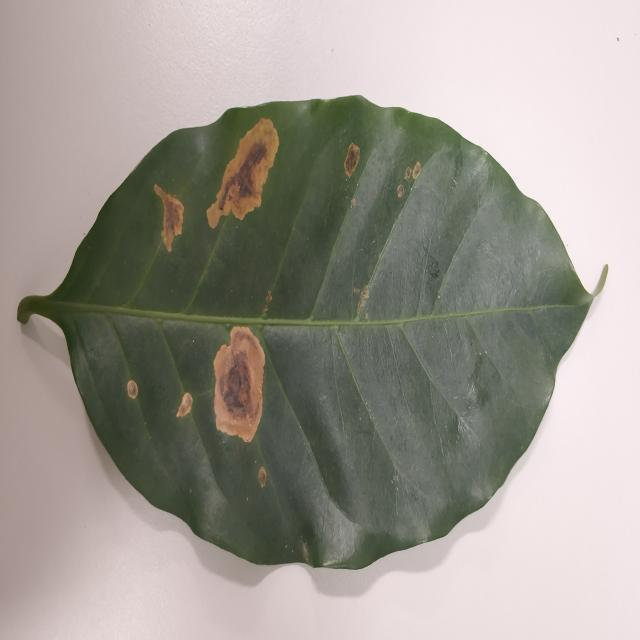Plaga-Minador: (16, 96, 601, 573)
